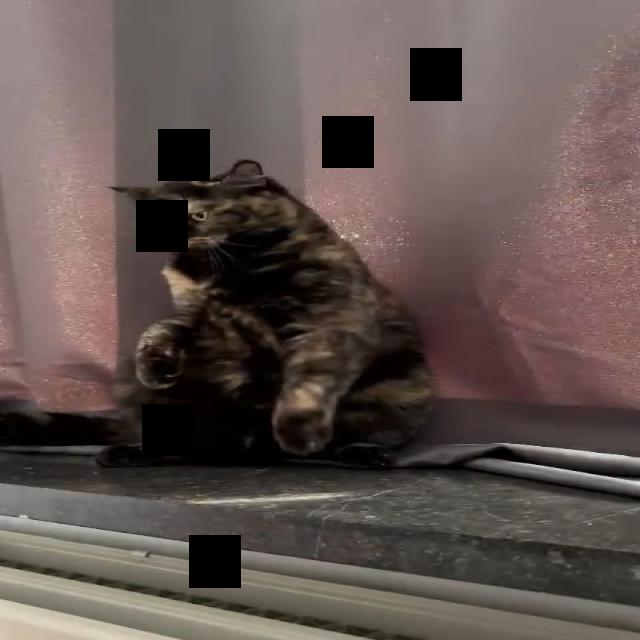authorized: (97, 158, 436, 468)
